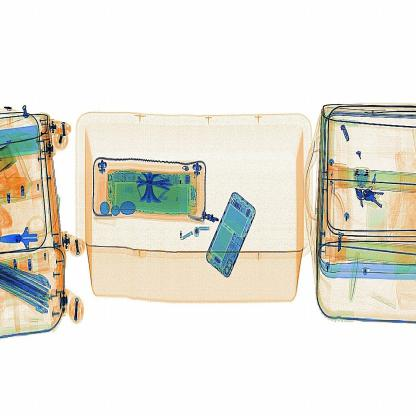gun: (1, 216, 55, 264)
